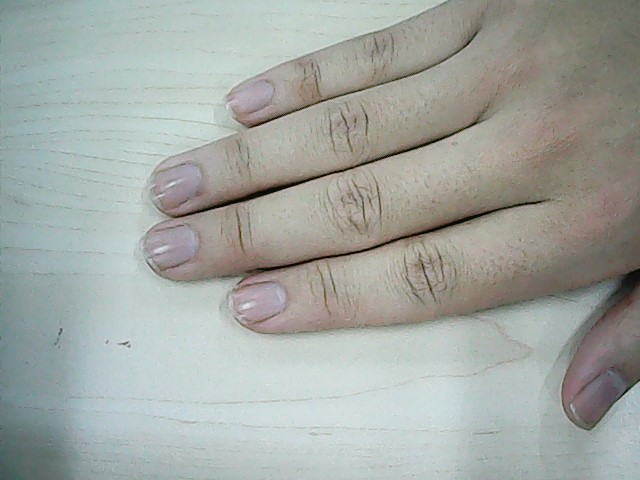nail: (142, 233, 197, 265), (150, 170, 199, 201), (230, 289, 285, 316), (225, 89, 271, 113)
